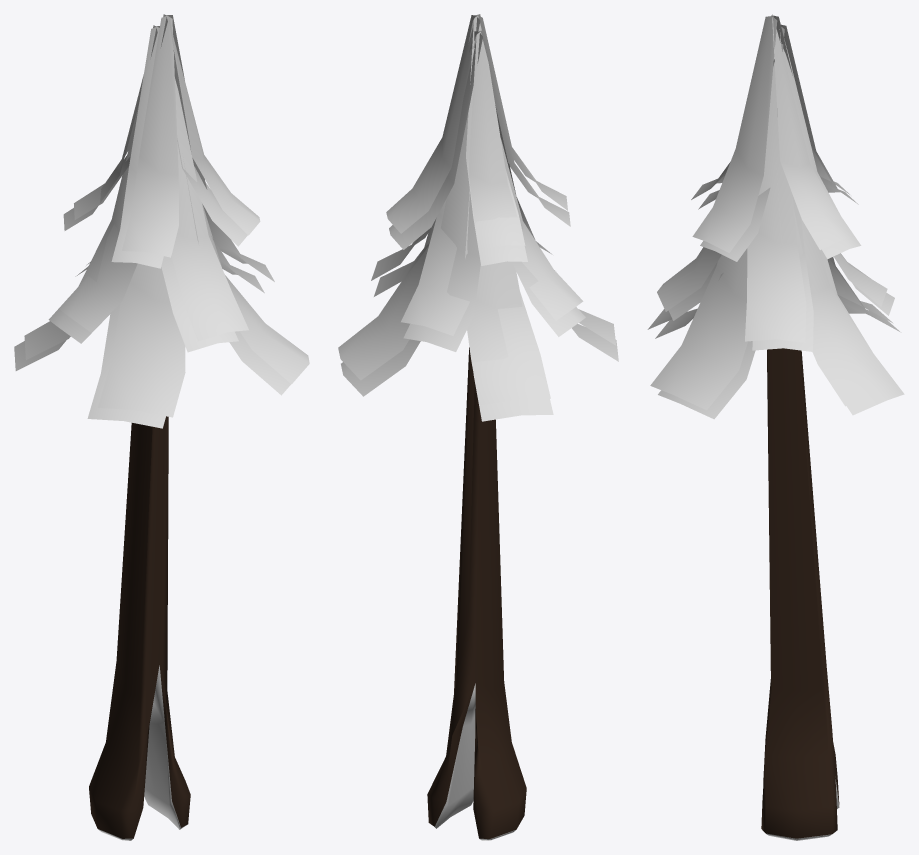
Rendered from LoveDeath_BigPine_Art.fbx.
The picture shows the model from 3 angles, left to right: view 1: azimuth 30°, elevation 25°; view 2: azimuth 150°, elevation 25°; view 3: azimuth 270°, elevation 25°; orthographic projection. The views are drawn at different scales.
Parts seen in each view (by area): view 1: LoveDeath_BigPine_Art; view 2: LoveDeath_BigPine_Art; view 3: LoveDeath_BigPine_Art.
Boxes of the visible parts, box(x1,y1,x2,y2) form: LoveDeath_BigPine_Art: box(14, 14, 309, 840); LoveDeath_BigPine_Art: box(338, 14, 618, 840); LoveDeath_BigPine_Art: box(647, 14, 904, 840).
Bounding box in the file's own units: 860 × 3002 × 860.
